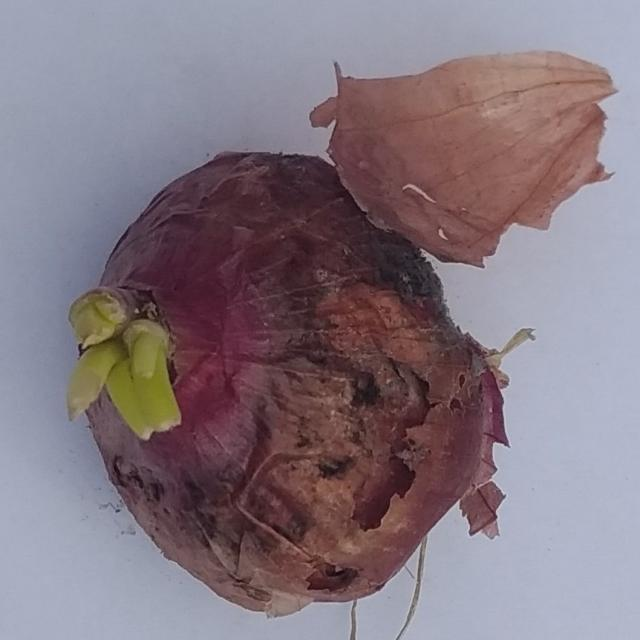onion: (60, 46, 616, 624)
